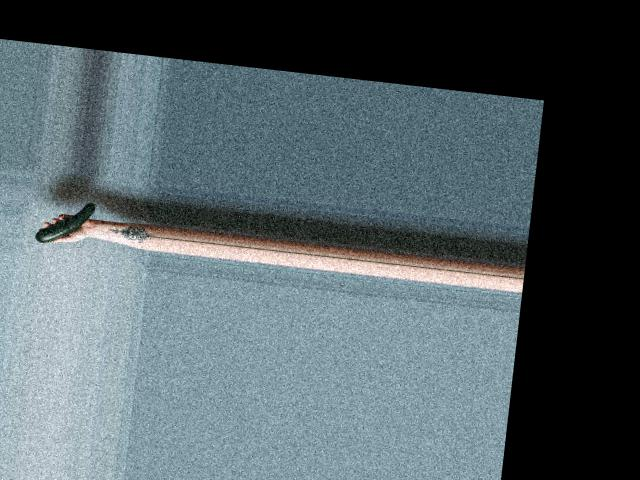cucumber: (34, 196, 95, 247)
